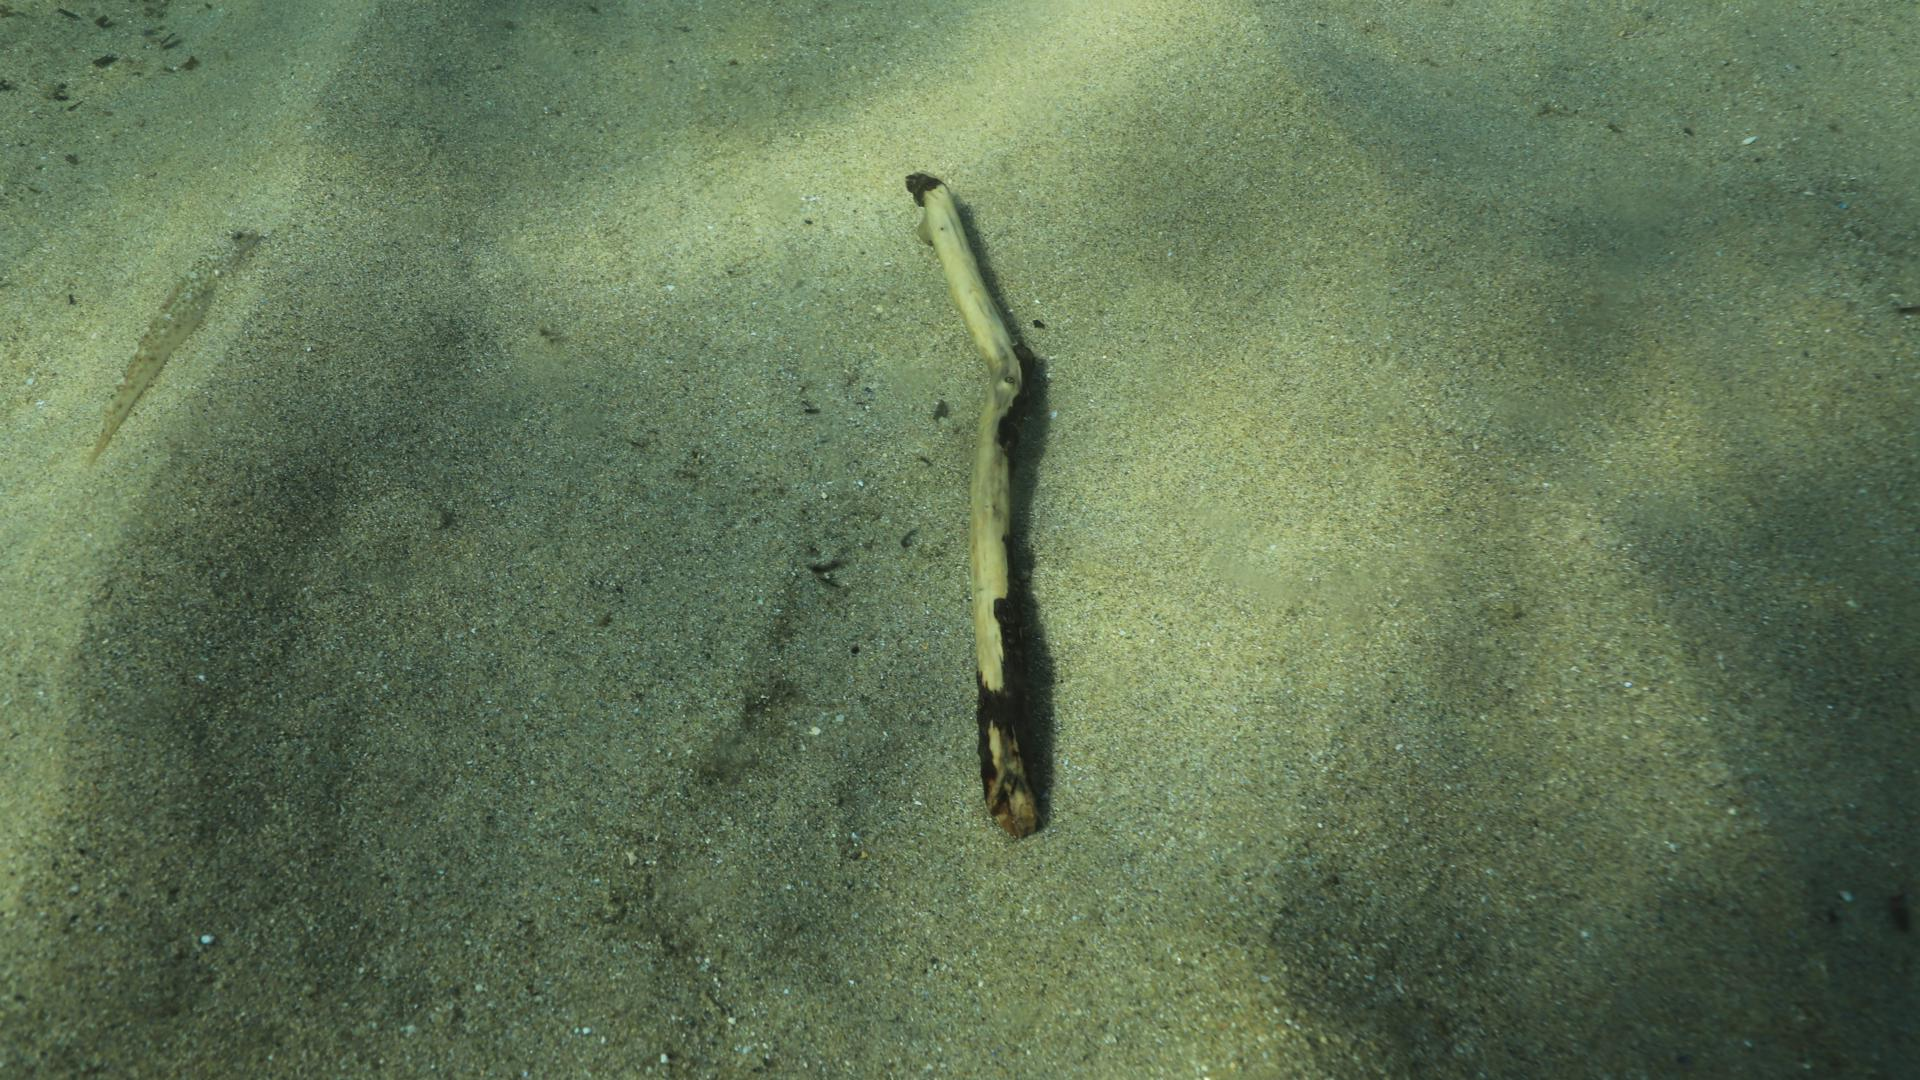wood: (905, 169, 1047, 837)
